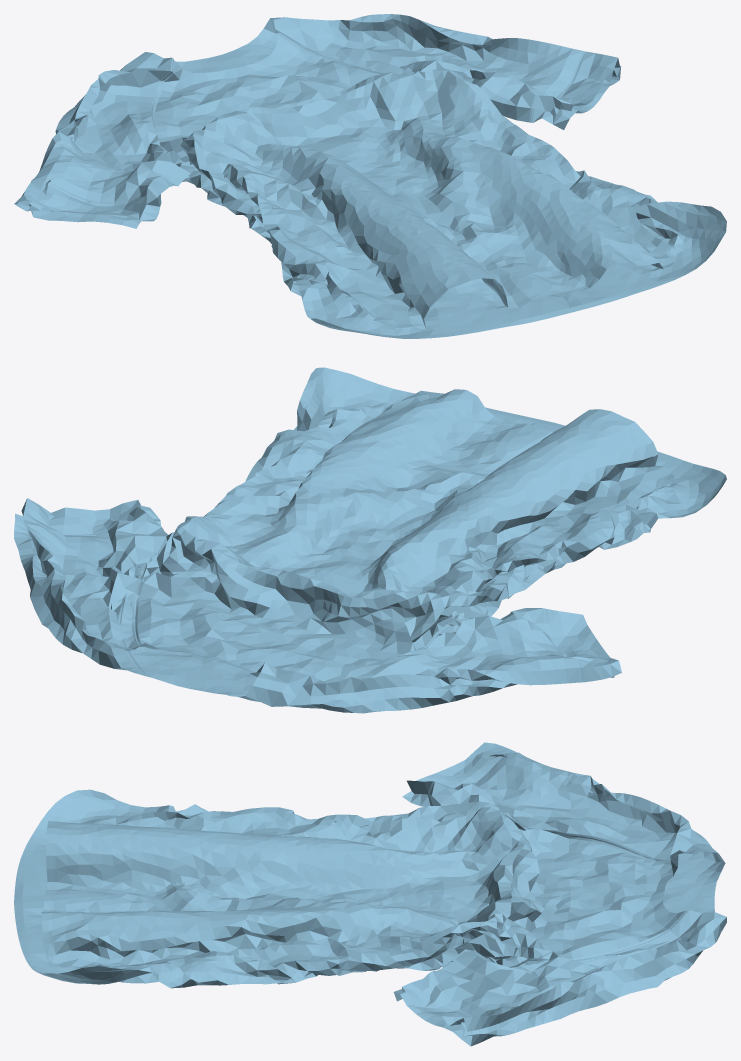
Rendered from frame_00.glb.
3 views of the same model, one above another, from view 1: azimuth 30°, elevation 25°; view 2: azimuth 150°, elevation 25°; view 3: azimuth 270°, elevation 25° (orthographic). The views are drawn at different scales.
Visible parts, largest first — view 1: frame_00.obj; view 2: frame_00.obj; view 3: frame_00.obj.
Boxes of the visible parts, x1,y1,x2,y2 form: frame_00.obj: [14, 14, 726, 338]; frame_00.obj: [14, 367, 726, 713]; frame_00.obj: [14, 742, 726, 1046].
Bounding box in the file's own units: 1.74 × 0.1393 × 1.81.
